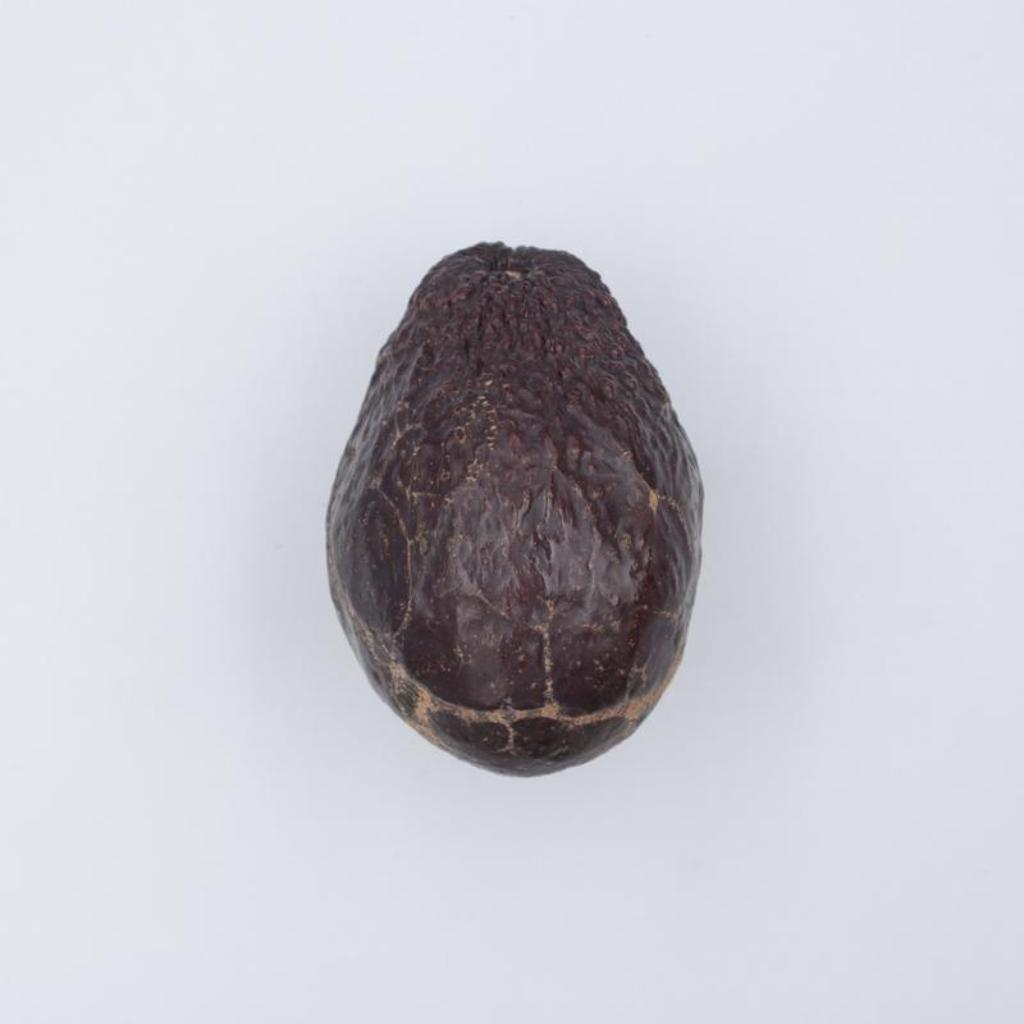scab: (326, 243, 701, 774)
